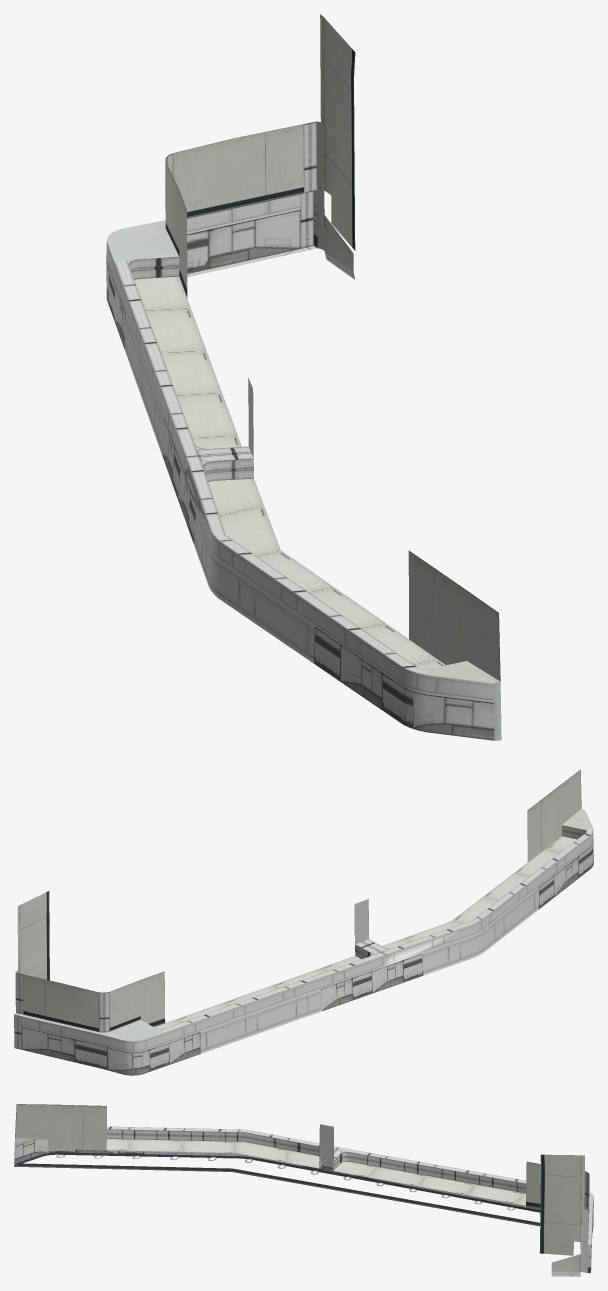
The model's file is STA20_officeext02.FBX.
3 views of the same model, one above another, from view 1: azimuth 30°, elevation 25°; view 2: azimuth 150°, elevation 25°; view 3: azimuth 270°, elevation 25° (orthographic). The views are drawn at different scales.
Visible parts, largest first — view 1: STA20_officeext02; view 2: STA20_officeext02; view 3: STA20_officeext02.
Part boxes in pixels (left/top/right/bottom): STA20_officeext02: left=106, top=14, right=501, bottom=740; STA20_officeext02: left=14, top=770, right=593, bottom=1075; STA20_officeext02: left=14, top=1104, right=593, bottom=1276.
Size of the model in its own units: 24.69 by 12.75 by 55.27.
